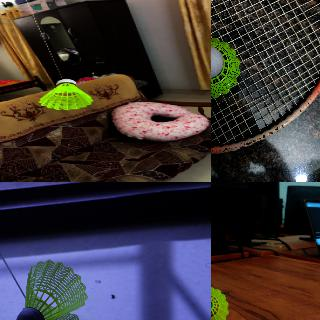shuttlecock: (15, 259, 87, 319), (211, 37, 240, 98), (38, 79, 92, 110), (211, 287, 230, 319)
